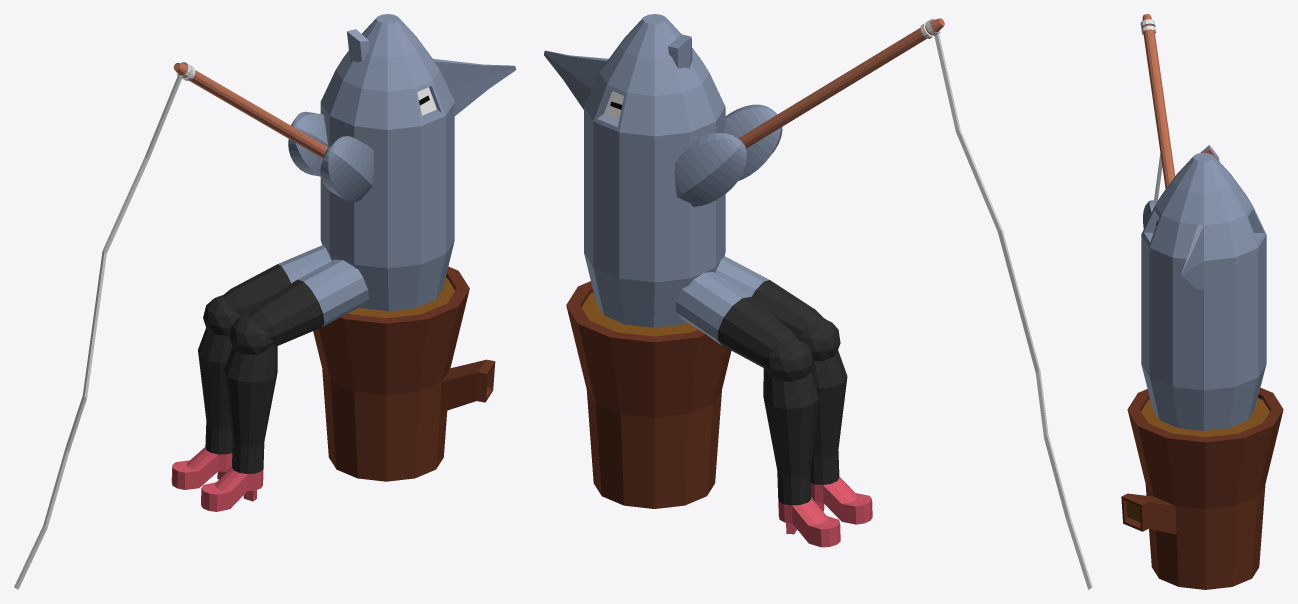
File: peixedesalto.fbx
3 views of the same model, side by side, from view 1: azimuth 30°, elevation 25°; view 2: azimuth 150°, elevation 25°; view 3: azimuth 270°, elevation 25° (orthographic). The views are drawn at different scales.
Parts seen in each view (by area): view 1: Cylinder, Cylinder.002, Icosphere, Cylinder.003, Cylinder.004, Cylinder.001, Icosphere.001, Sphere, Sphere.001; view 2: Cylinder, Cylinder.002, Icosphere.001, Cylinder.001, Cylinder.004, Cylinder.003, Icosphere, Sphere.001, Sphere; view 3: Cylinder, Cylinder.002, Cylinder.004.
Part boxes in pixels (<box>): Cylinder: <box>320,14,515,311</box>; Cylinder.002: <box>313,266,495,481</box>; Icosphere: <box>229,259,368,355</box>; Cylinder.003: <box>201,327,277,511</box>; Cylinder.004: <box>14,62,328,589</box>; Cylinder.001: <box>171,309,235,489</box>; Icosphere.001: <box>203,245,331,336</box>; Sphere: <box>320,136,373,201</box>; Sphere.001: <box>288,111,327,176</box>; Cylinder: <box>544,14,725,327</box>; Cylinder.002: <box>566,281,731,508</box>; Icosphere.001: <box>675,272,813,381</box>; Cylinder.001: <box>763,339,840,547</box>; Cylinder.004: <box>738,18,1092,589</box>; Cylinder.003: <box>801,319,872,524</box>; Icosphere: <box>715,256,840,361</box>; Sphere.001: <box>674,133,747,206</box>; Sphere: <box>724,104,782,180</box>; Cylinder: <box>1141,152,1266,430</box>; Cylinder.002: <box>1121,387,1283,589</box>; Cylinder.004: <box>1140,14,1175,201</box>.
Size of the model in its own units: 513 by 477 by 151.
